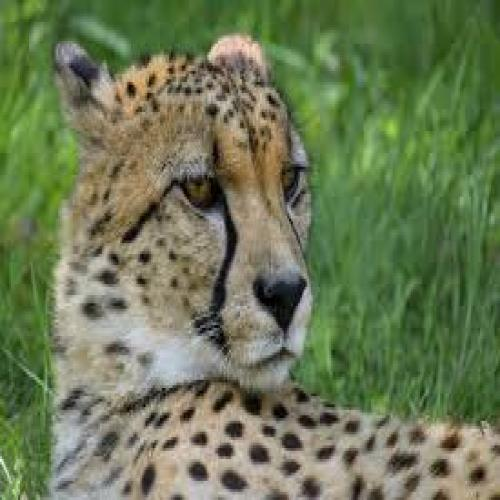cheetah-endangered: (45, 30, 386, 500)
